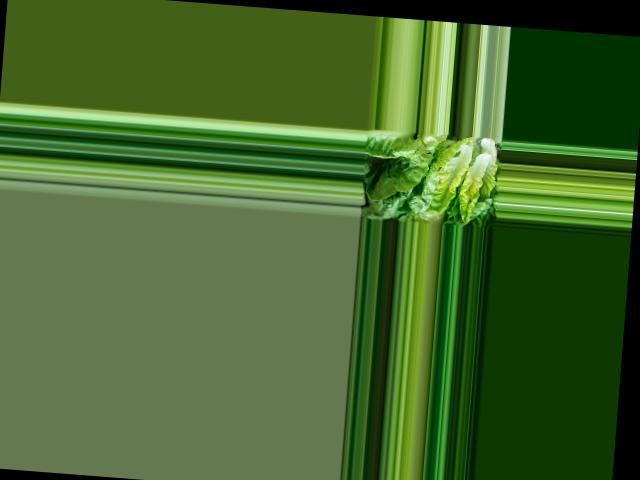lettuce: (406, 131, 499, 222)
